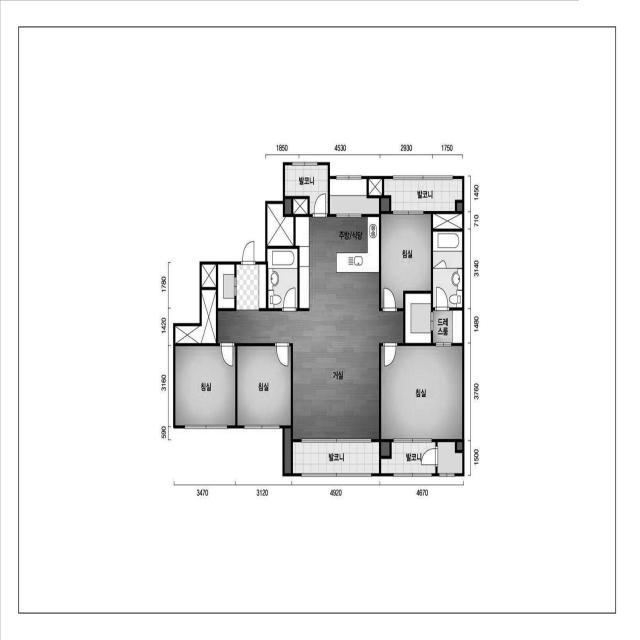space_balconi: (293, 442, 379, 473), (384, 179, 462, 211), (285, 165, 328, 214), (381, 442, 436, 473)
space_bedroom: (381, 346, 462, 439), (175, 346, 235, 425), (381, 214, 431, 308), (237, 346, 291, 425)
space_dressroom: (405, 294, 462, 343)
space_front: (218, 264, 266, 311)
space_kitchen: (296, 217, 379, 311)
space_living_room: (218, 311, 403, 439)
space_other: (175, 290, 216, 343), (330, 179, 379, 214), (267, 204, 293, 246), (438, 442, 462, 473), (433, 214, 462, 229), (202, 264, 216, 287), (285, 428, 291, 473), (368, 179, 383, 196), (293, 198, 308, 215), (381, 442, 390, 456), (381, 198, 390, 211), (285, 199, 291, 215), (457, 203, 462, 211), (457, 442, 462, 450)
space_toilet: (433, 232, 462, 308), (267, 249, 298, 308)
